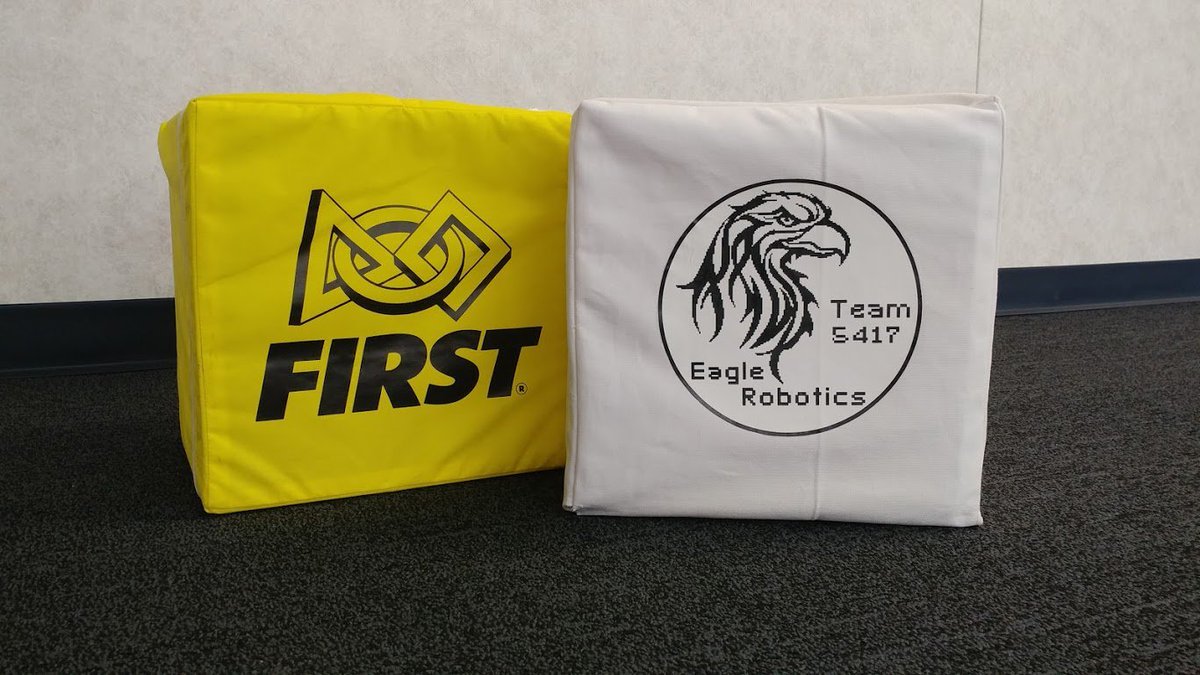cube: (156, 93, 589, 514)
